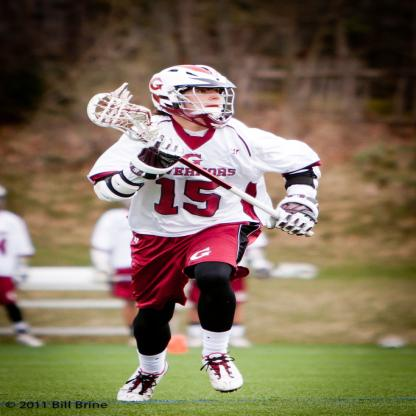Helmet: (143, 60, 239, 128)
